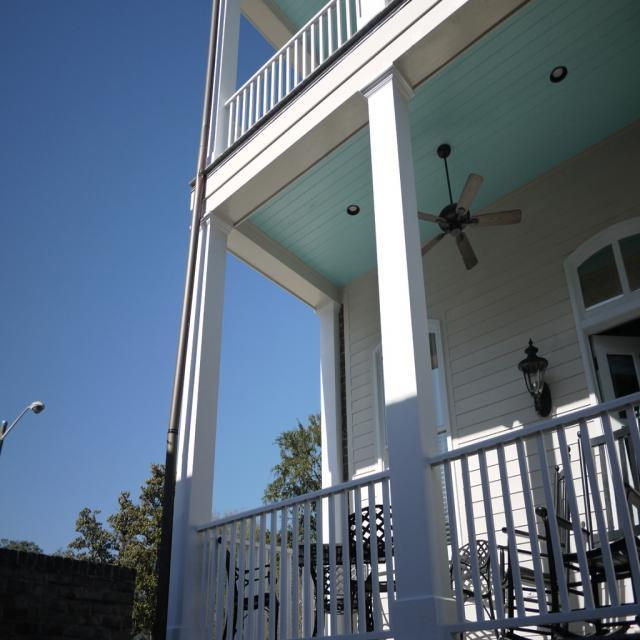fan_off: (416, 142, 528, 268)
